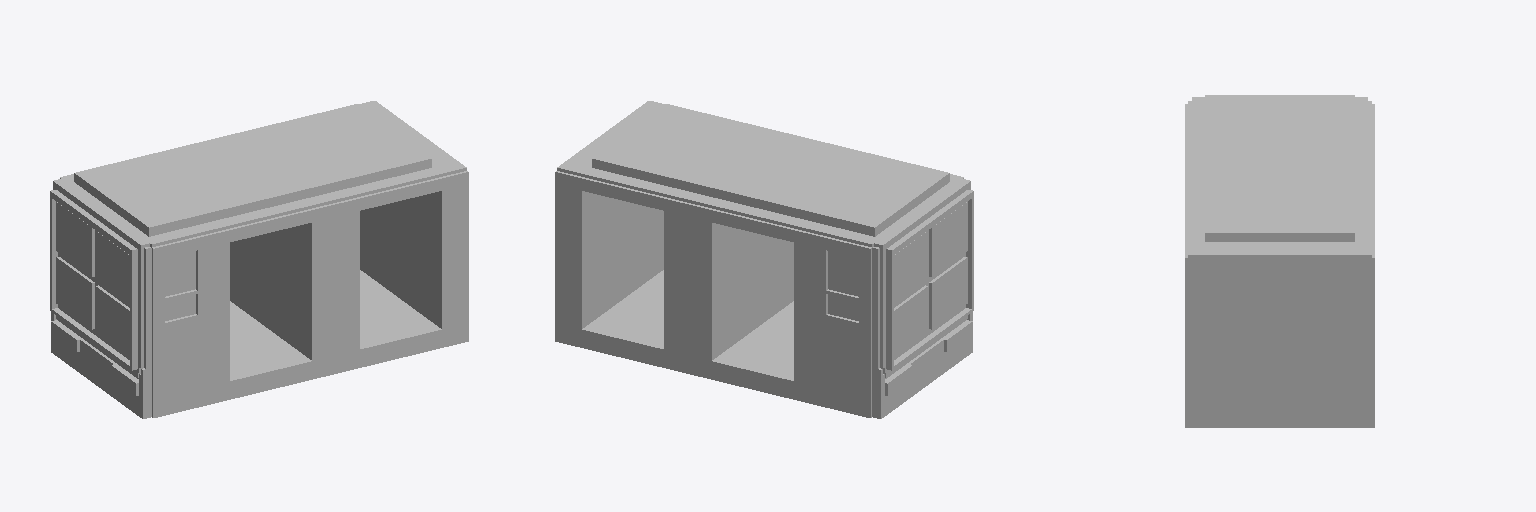
Rendered from metro sin puertas.obj.
The picture shows the model from 3 angles: view 1: azimuth 30°, elevation 25°; view 2: azimuth 150°, elevation 25°; view 3: azimuth 270°, elevation 25°; orthographic projection.
Parts seen in each view (by area): view 1: object 1; view 2: object 1; view 3: object 1.
Part boxes in pixels (left/top/right/bottom): object 1: left=50, top=101, right=468, bottom=418; object 1: left=555, top=101, right=973, bottom=418; object 1: left=1185, top=95, right=1374, bottom=427.
Size of the model in its own units: 11.2 by 5.9 by 5.6.